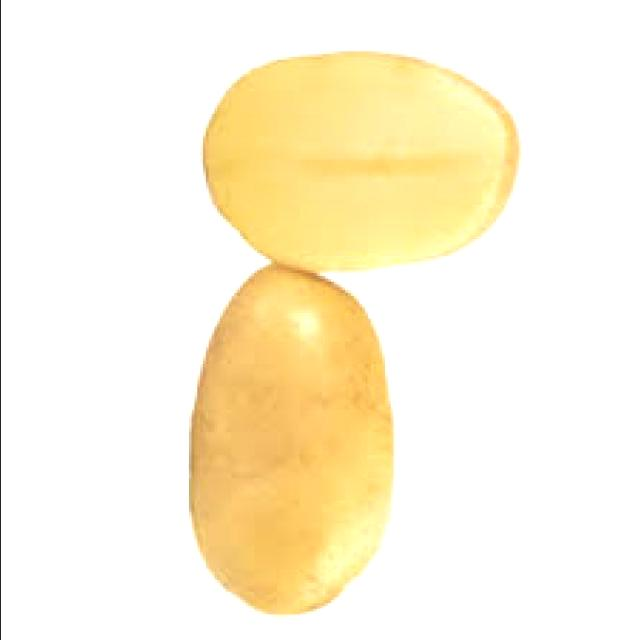potato: (188, 264, 394, 617), (200, 58, 524, 274)
